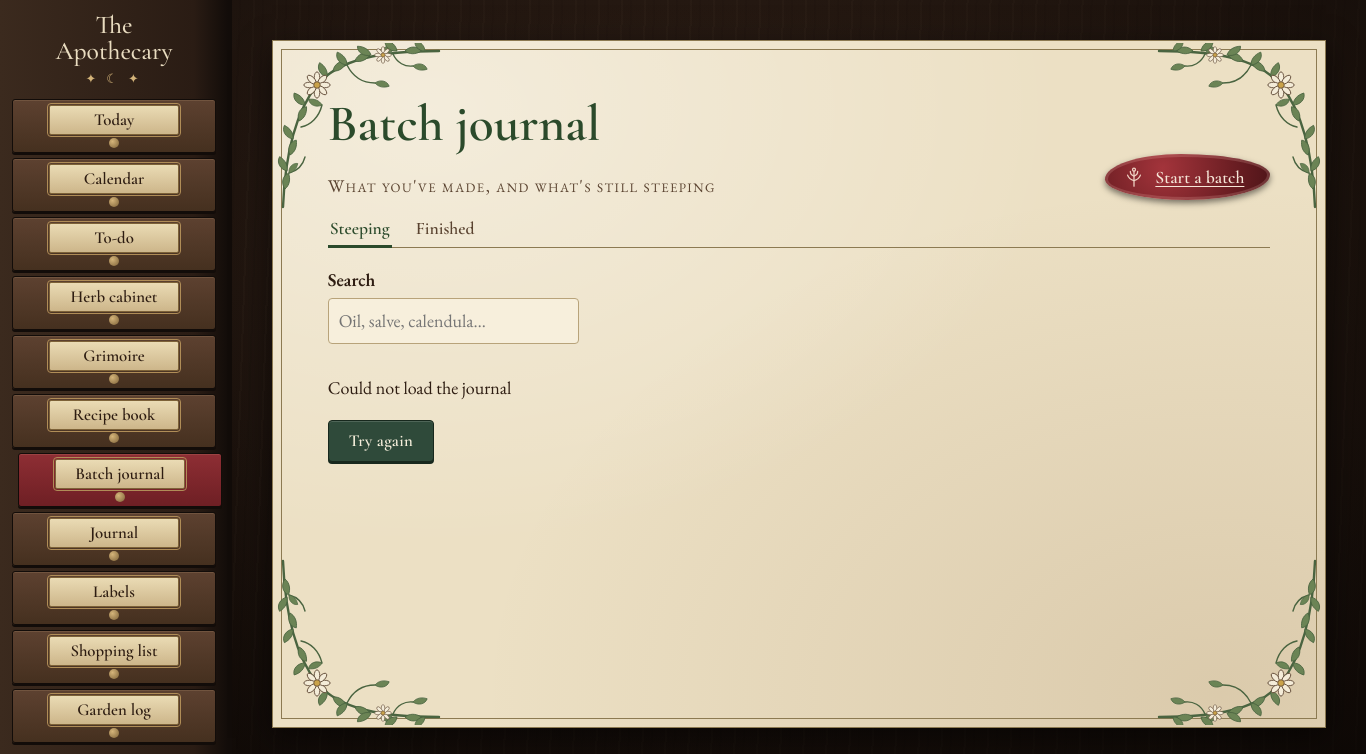
shows a load error with Try again
The width and height of the screenshot is (1366, 754).
Check: the message reads "Could not load the journal", box [328,376,511,399]
Click the button "Try again" at (381, 441), box [328,420,434,462]
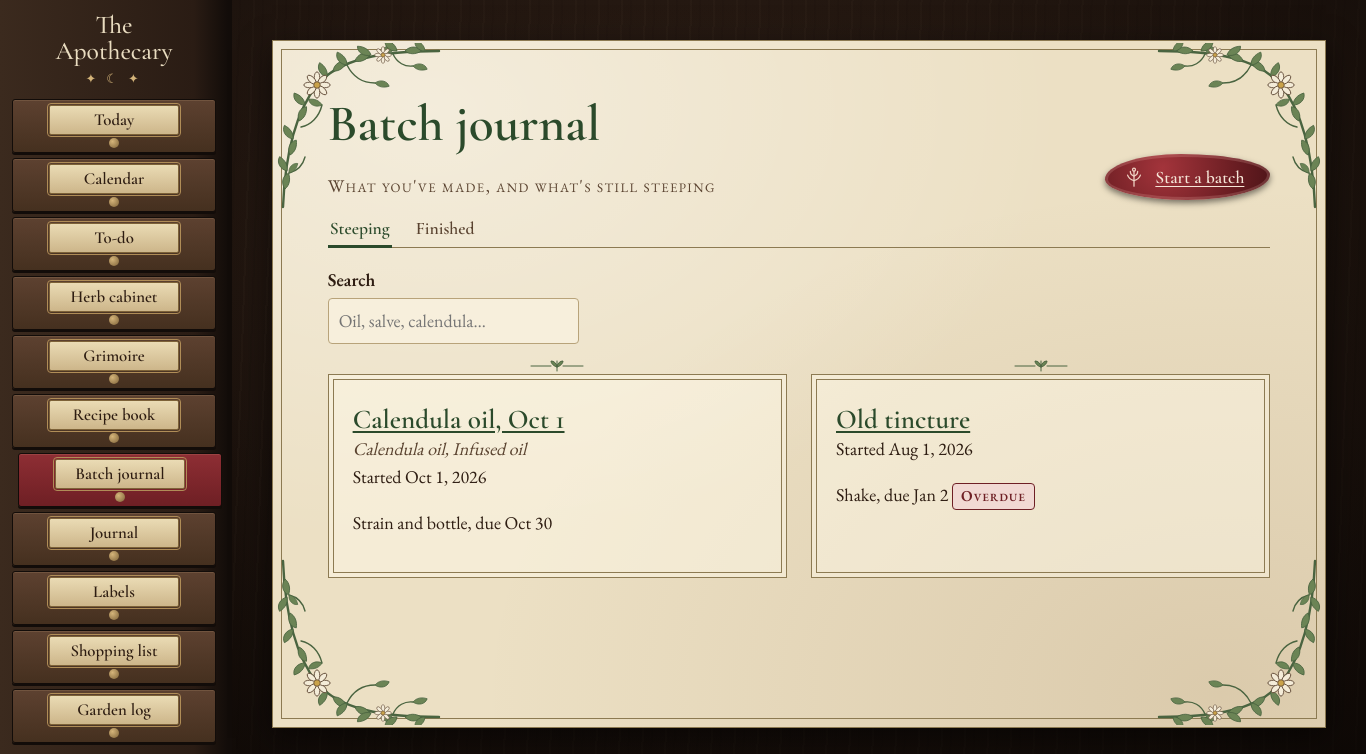
Check: the link "Old tincture" is shown, box [836,403,970,436]
